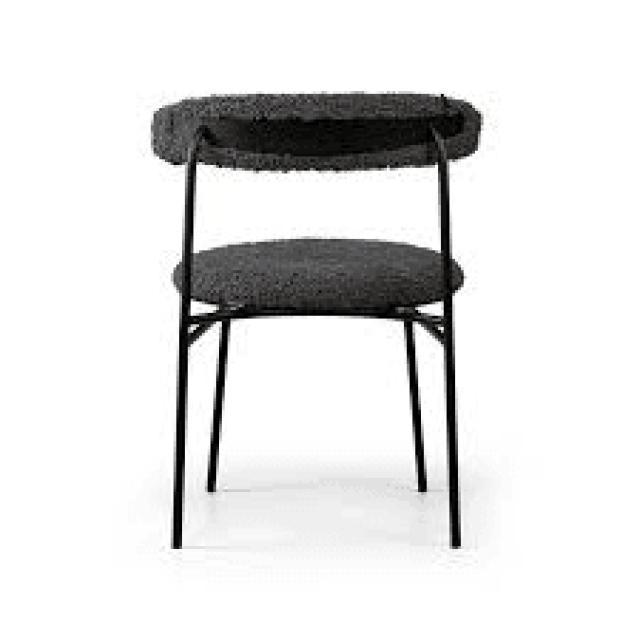chair: (146, 81, 487, 560)
